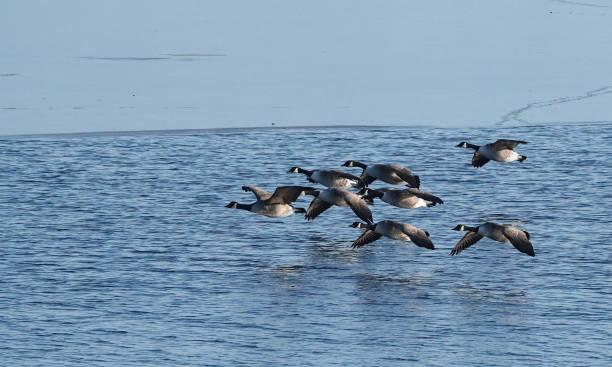Canadian-Goose: (447, 220, 534, 262), (350, 219, 432, 255), (227, 180, 294, 220), (344, 155, 418, 186), (357, 185, 443, 211), (455, 137, 528, 167), (303, 187, 372, 216), (291, 163, 350, 186)
